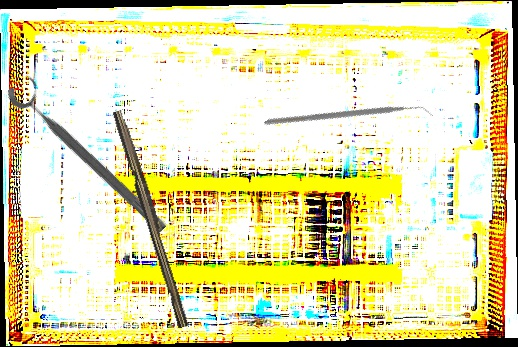Chopper: (263, 38, 434, 200)
Fixation Ring: (3, 70, 179, 238)
Scalpel Handle: (108, 108, 196, 329)
